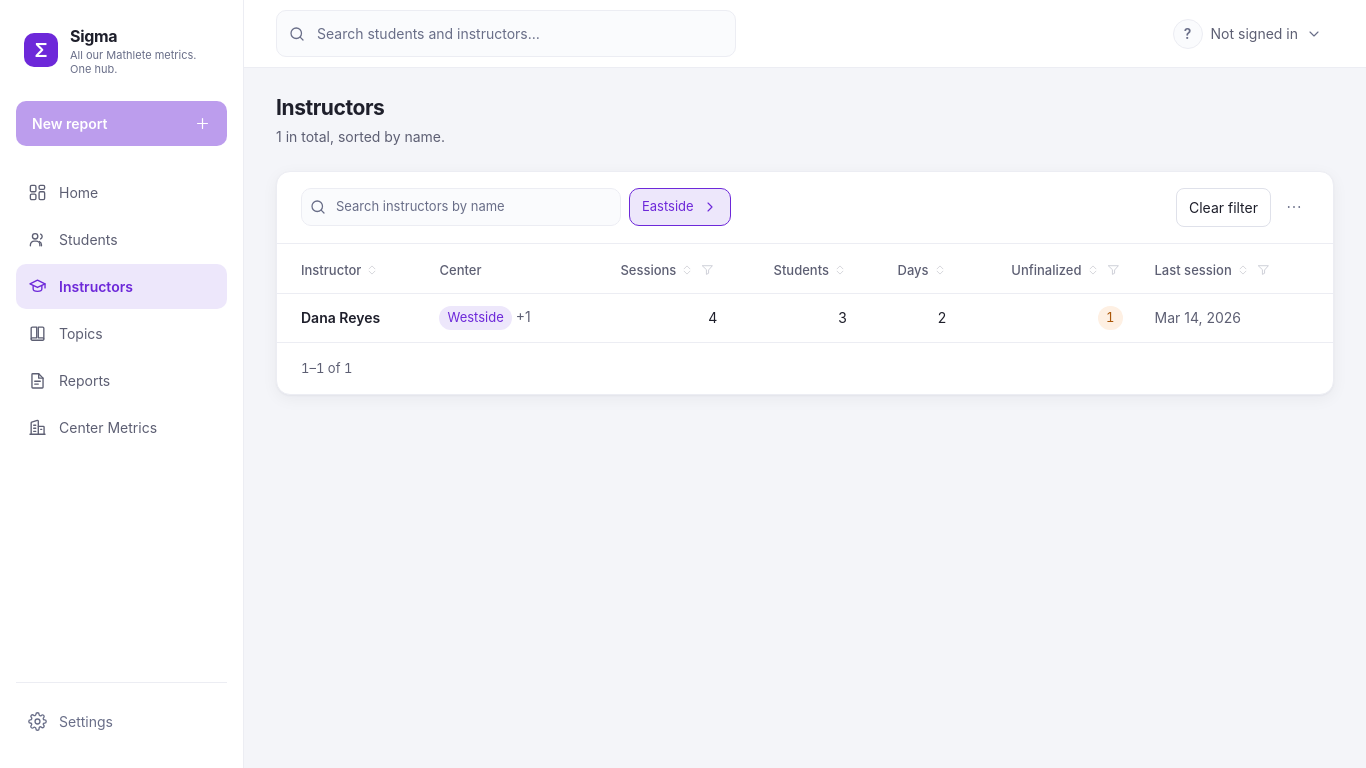
Scenario: instructors page › offers to clear a center filter, not just a search term
Check: the row "Dana Reyes Westside +1 4 3 2 1 Mar 14, 2026" is shown, box 277,294 -> 1333,342
Click the button "Clear filter".
click(1224, 207)  # box 1176,188 -> 1271,226
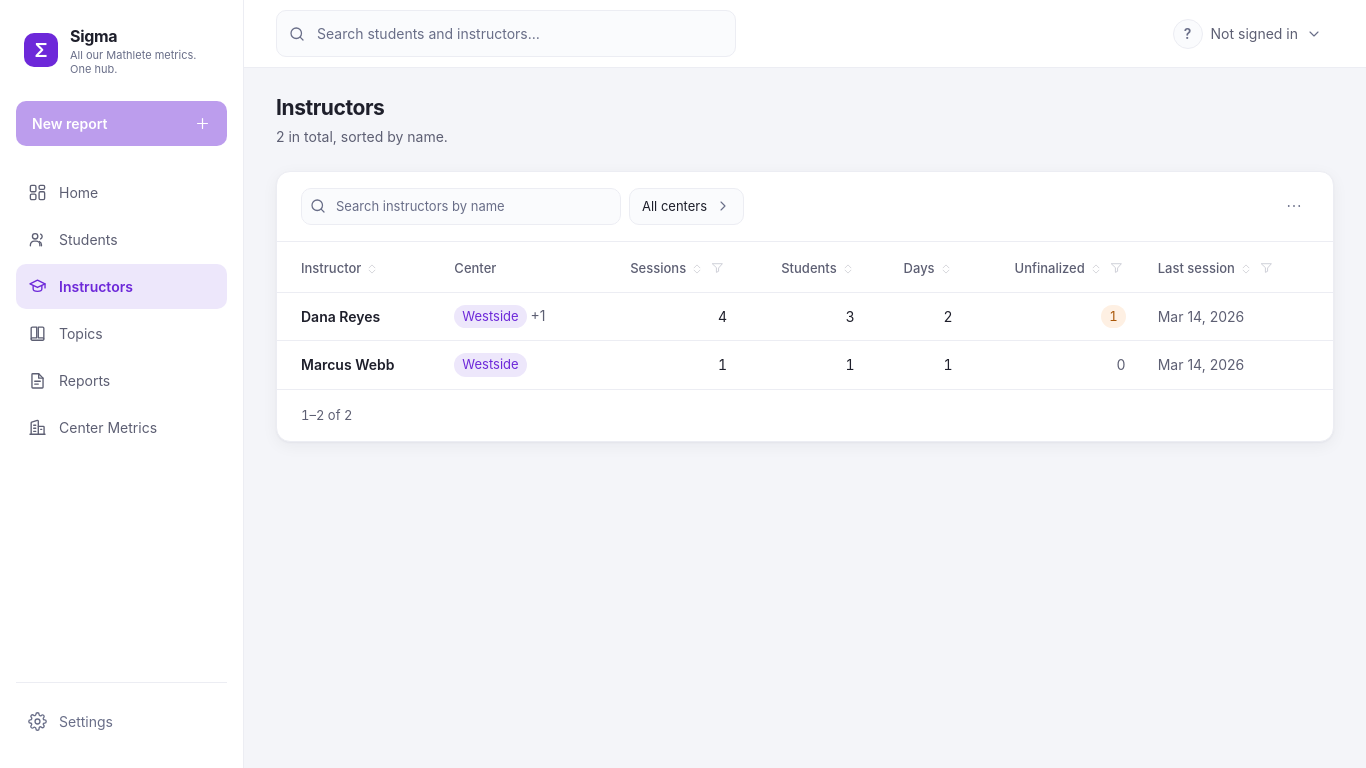
Check: the button "All centers" is shown, box 629,188 -> 744,225
